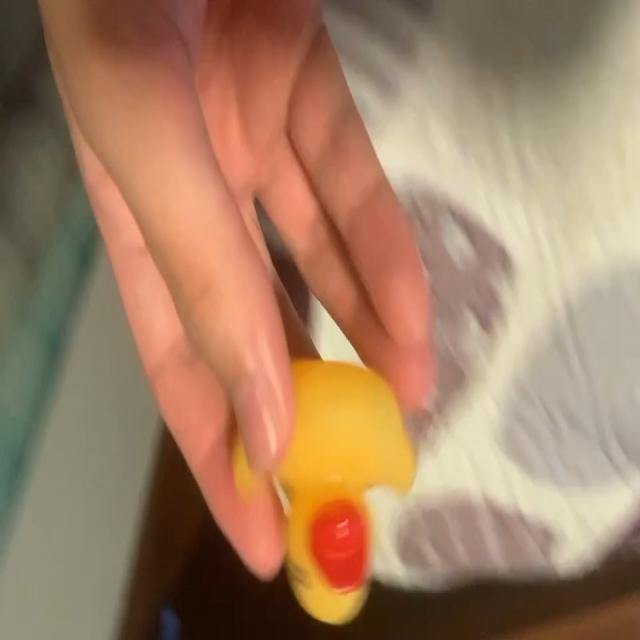rubber-duck: (273, 359, 413, 622)
